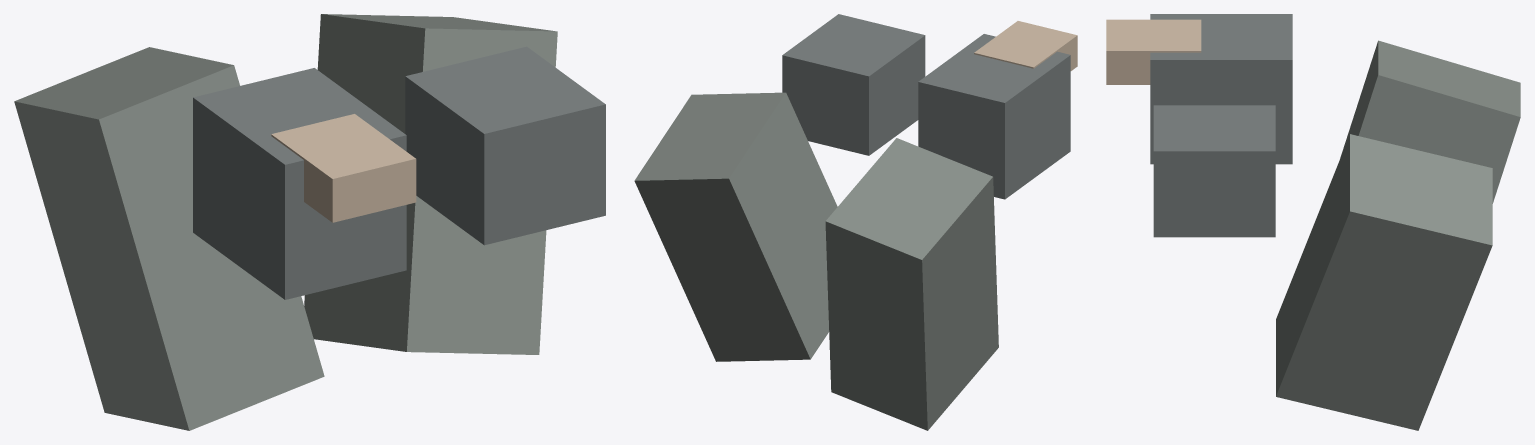
File: desert_eagle_fp.glb
3 renders of one model, left to right at view 1: azimuth 30°, elevation 25°; view 2: azimuth 150°, elevation 25°; view 3: azimuth 270°, elevation 25°, orthographic. The views are drawn at different scales.
Parts seen in each view (by area): view 1: RightSleeve, LeftSleeve, LeftHand, RightHand, RightFingers; view 2: LeftSleeve, RightSleeve, RightHand, LeftHand, RightFingers; view 3: LeftSleeve, LeftHand, RightSleeve, RightHand, RightFingers.
Part boxes in pixels (x1,y1,x2,y2): RightSleeve: (14, 47, 324, 430); LeftSleeve: (304, 14, 557, 354); LeftHand: (405, 46, 605, 245); RightHand: (193, 68, 406, 299); RightFingers: (271, 114, 416, 222); LeftSleeve: (634, 92, 837, 361); RightSleeve: (825, 138, 998, 430); RightHand: (918, 34, 1070, 199); LeftHand: (782, 14, 925, 155); RightFingers: (974, 21, 1077, 70); LeftSleeve: (1276, 134, 1492, 430); LeftHand: (1153, 105, 1275, 237); RightSleeve: (1340, 40, 1520, 203); RightHand: (1150, 14, 1292, 164); RightFingers: (1106, 19, 1201, 84).
Bounding box in the file's own units: 0.5799 × 0.4926 × 0.6112.
